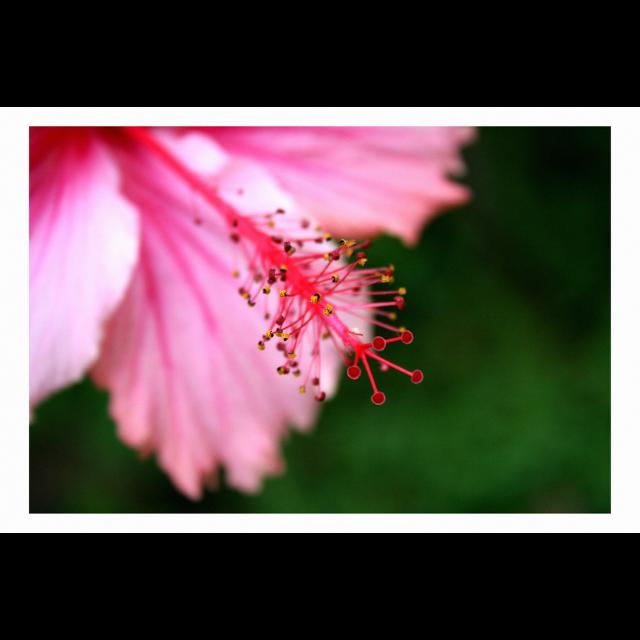Flower: (24, 124, 476, 498)
